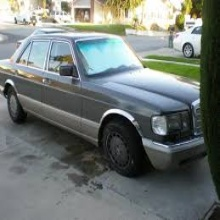no damage: (1, 28, 210, 178)
